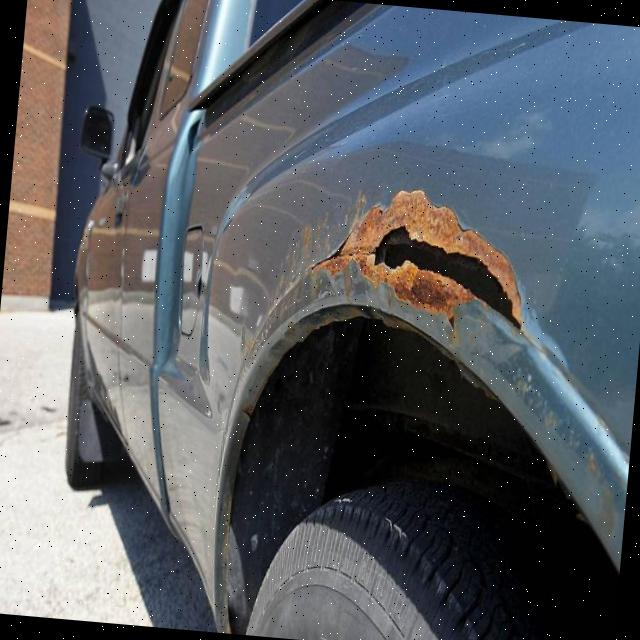Corrosion: (304, 177, 534, 332)
